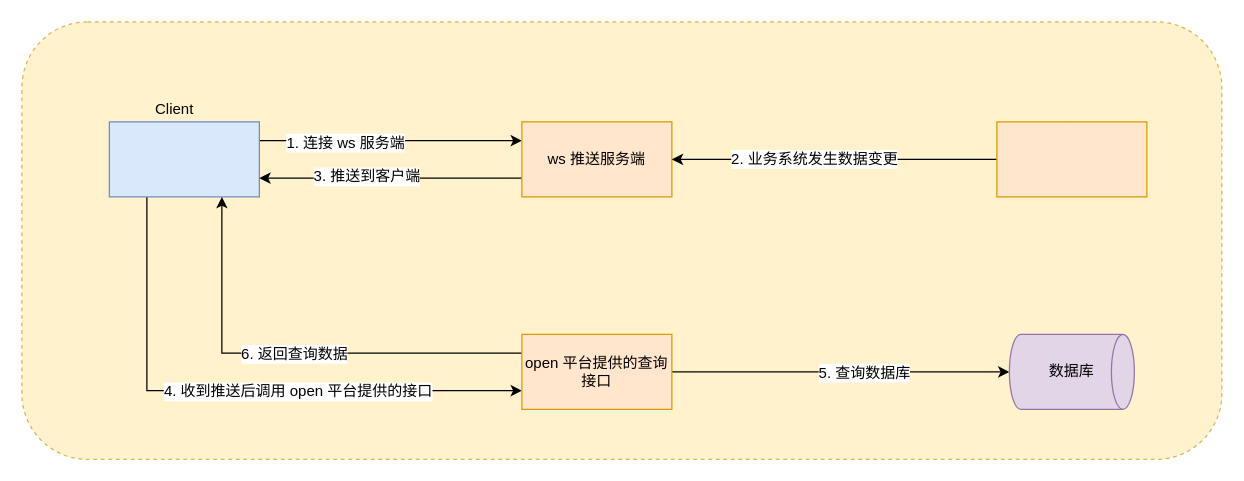
The diagram is 1244 pixels wide and 481 high, and some of its shapes have lost their labels. Each missing label, with the centre of its shape:
ws推送客户端: point (183, 159)
易订业务系统: point (1071, 159)
